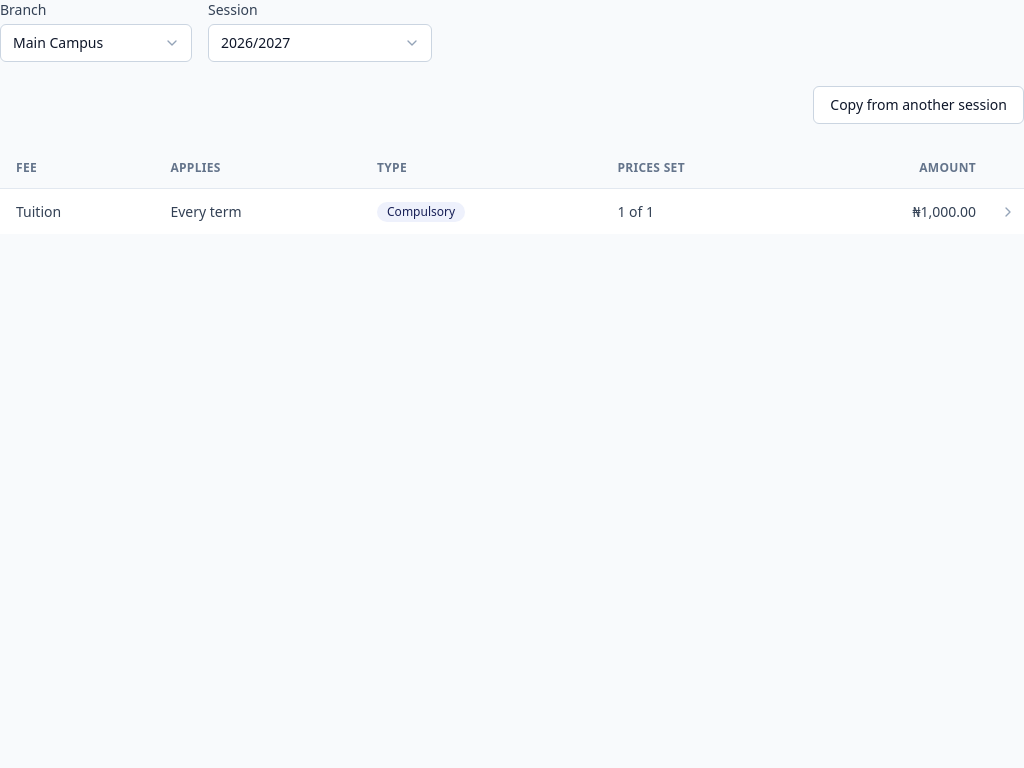
PricesTab › clicking a fee row opens the pricing modal pre-filled with its amounts
The width and height of the screenshot is (1024, 768).
Click the text "Tuition".
click(39, 211)  # box [0, 188, 154, 234]
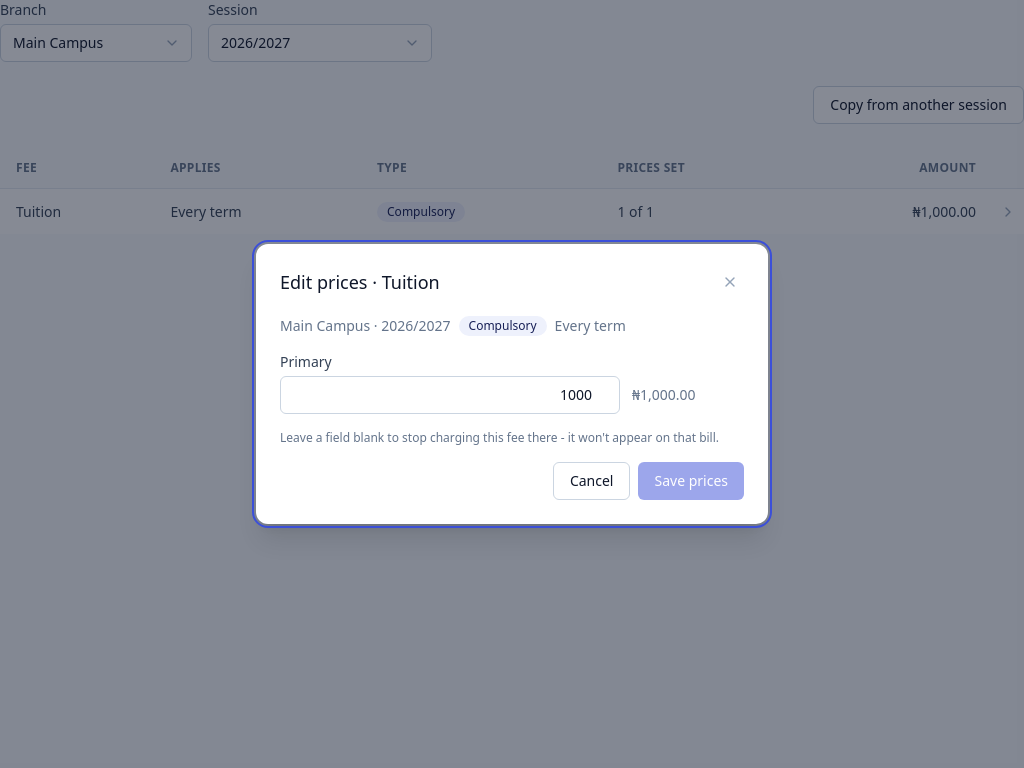
Result: the heading "Edit prices · Tuition" is shown at [280, 268, 440, 296]
Result: the number field named "Tuition price for Primary" holds "1000" at [280, 376, 620, 414]
